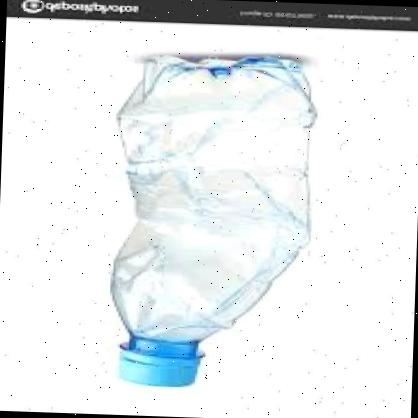bottle: (88, 45, 348, 404)
cap: (110, 340, 209, 394)
